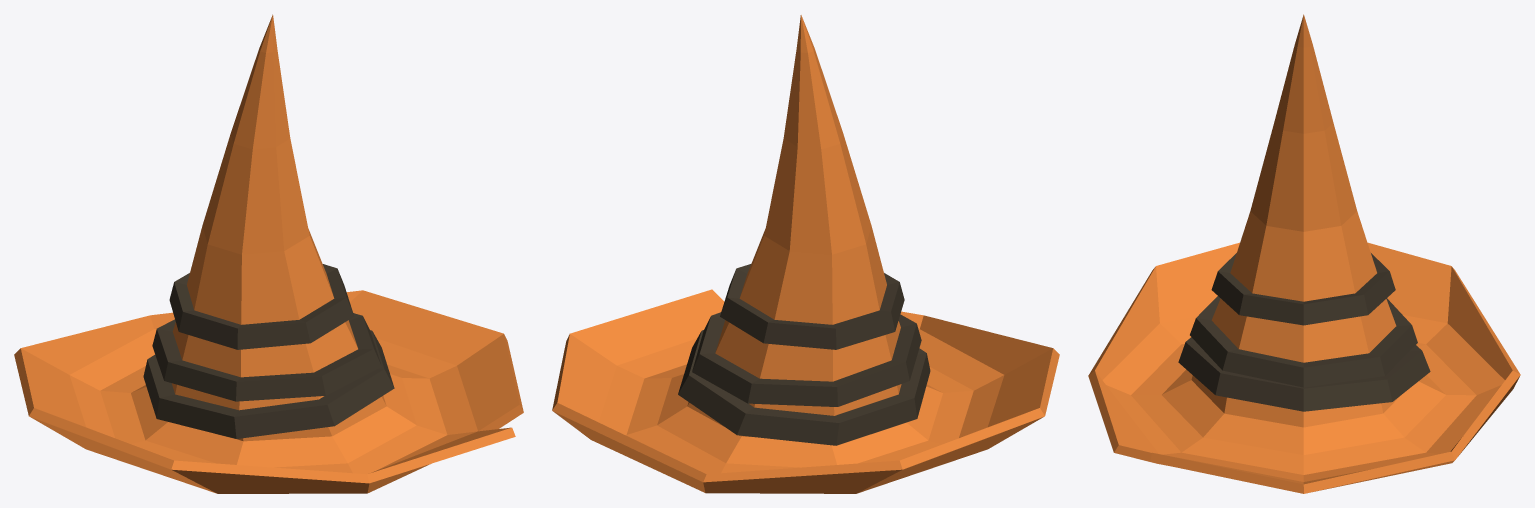
Rendered from WF_LP_HT_Props_Hat.001.fbx.
The picture shows the model from 3 angles, left to right: view 1: azimuth 30°, elevation 25°; view 2: azimuth 150°, elevation 25°; view 3: azimuth 270°, elevation 25°; orthographic projection. The views are drawn at different scales.
Parts seen in each view (by area): view 1: WF_LP_HT_Props_Hat.001; view 2: WF_LP_HT_Props_Hat.001; view 3: WF_LP_HT_Props_Hat.001.
Boxes of the visible parts, x1,y1,x2,y2 form: WF_LP_HT_Props_Hat.001: (14, 14, 523, 493); WF_LP_HT_Props_Hat.001: (552, 15, 1059, 493); WF_LP_HT_Props_Hat.001: (1088, 14, 1520, 493).
Bounding box in the file's own units: 0.6626 × 0.5444 × 0.5386.
